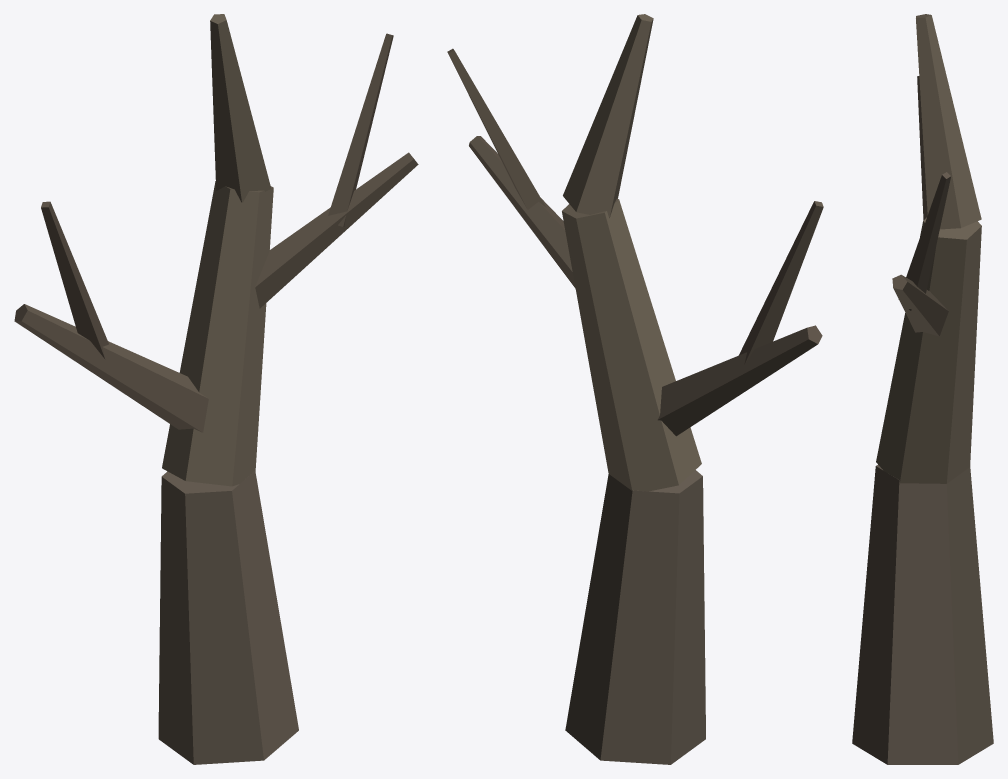
The model's file is Scatter_DeadTree.fbx.
3 views of the same model, side by side, from view 1: azimuth 30°, elevation 25°; view 2: azimuth 150°, elevation 25°; view 3: azimuth 270°, elevation 25° (orthographic).
Parts seen in each view (by area): view 1: DeadTree; view 2: DeadTree; view 3: DeadTree.
Part boxes in pixels (x1,y1,x2,y2): DeadTree: [14, 14, 418, 764]; DeadTree: [447, 14, 823, 764]; DeadTree: [852, 14, 993, 764].
Bounding box in the file's own units: 7.38 × 13.62 × 2.4.
